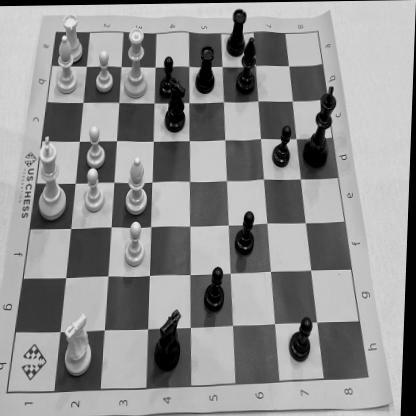black-bishop: (236, 35, 260, 97)
black-king: (302, 81, 342, 175)
black-knight: (153, 304, 188, 375), (162, 74, 192, 135)
black-pawn: (288, 312, 320, 364), (204, 262, 230, 314), (235, 208, 260, 258), (272, 123, 296, 171), (158, 52, 180, 100)
black-rook: (192, 38, 220, 96), (224, 5, 249, 60)
white-bishop: (123, 152, 154, 218), (52, 32, 80, 97)
white-king: (34, 126, 75, 224)
white-knight: (60, 306, 99, 380)
white-pawn: (122, 218, 152, 271), (81, 163, 108, 216), (84, 122, 109, 171), (94, 44, 116, 98)
white-queen: (122, 21, 154, 102)
white-rook: (57, 8, 89, 64), (57, 8, 89, 64)
